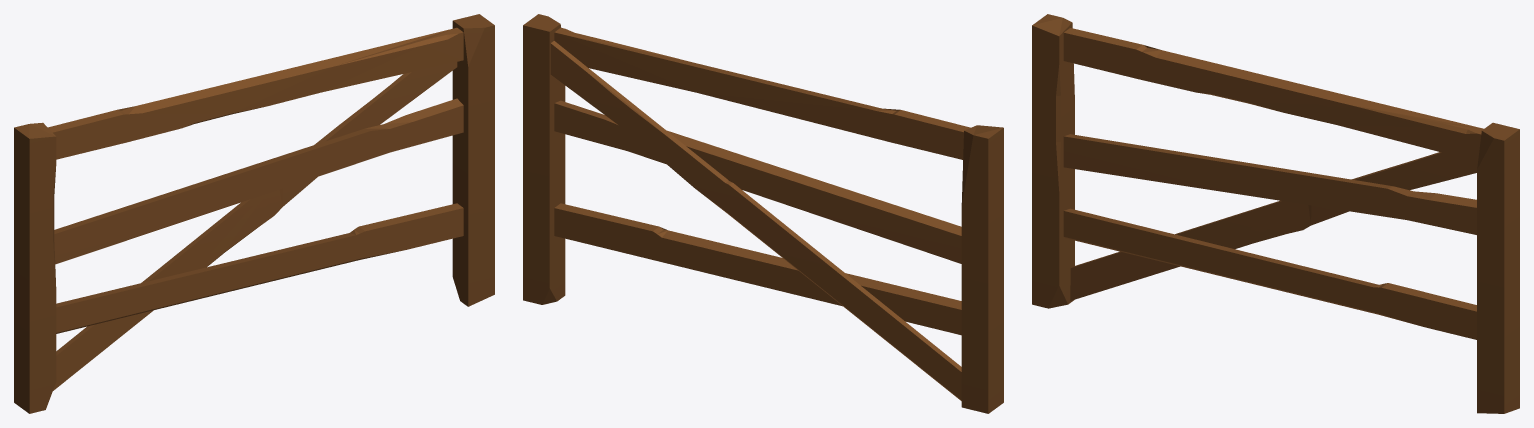
File: Bld_02_Fence_Wood_Gate_Single_Long_Worned_01.obj
3 views of the same model, side by side, from view 1: azimuth 30°, elevation 25°; view 2: azimuth 150°, elevation 25°; view 3: azimuth 330°, elevation 25° (orthographic).
Parts seen in each view (by area): view 1: Bld_02_Fence_Wood_Gate_Single_Long_Worned_01; view 2: Bld_02_Fence_Wood_Gate_Single_Long_Worned_01; view 3: Bld_02_Fence_Wood_Gate_Single_Long_Worned_01.
Part boxes in pixels (x1,y1,x2,y2): Bld_02_Fence_Wood_Gate_Single_Long_Worned_01: (14,14,494,413); Bld_02_Fence_Wood_Gate_Single_Long_Worned_01: (523,14,1003,413); Bld_02_Fence_Wood_Gate_Single_Long_Worned_01: (1032,14,1519,413).
Size of the model in its own units: 2.44 by 1.38 by 0.1404.
1 material, 1 textured.
